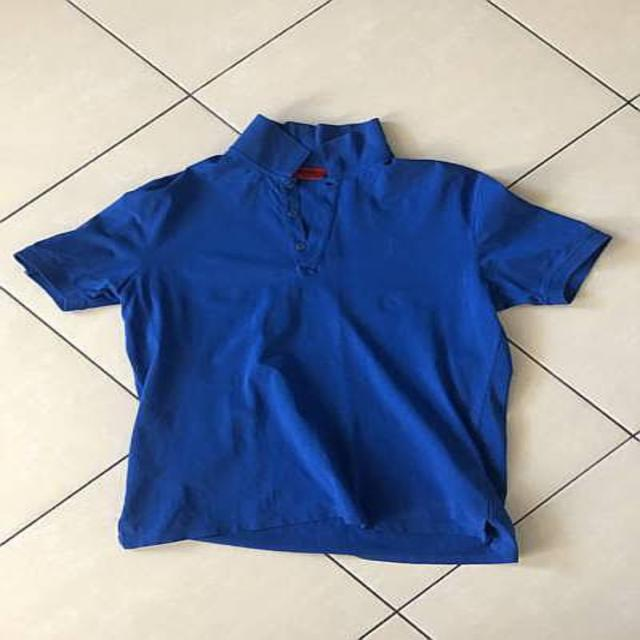T_SHIRT: (0, 109, 636, 573)
